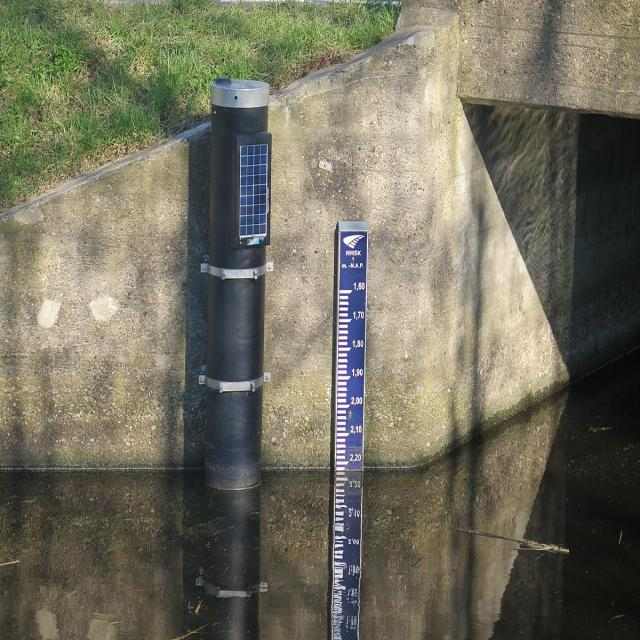ruler: (328, 213, 376, 472)
value: (346, 419, 365, 440), (351, 303, 366, 325), (349, 276, 367, 294), (348, 392, 366, 408), (349, 365, 366, 381), (348, 449, 364, 466), (350, 334, 366, 350)
